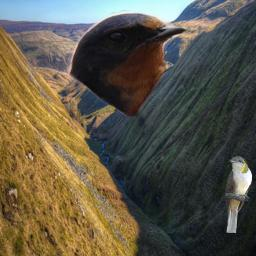Cuckoo: (224, 156, 252, 233)
Swallow: (67, 10, 192, 118)
